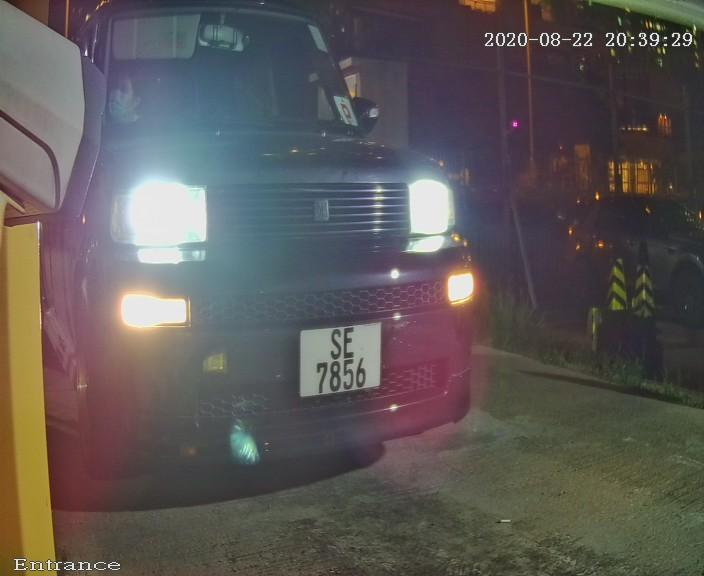Car: (13, 8, 529, 507)
License Plate: (287, 314, 390, 409)
